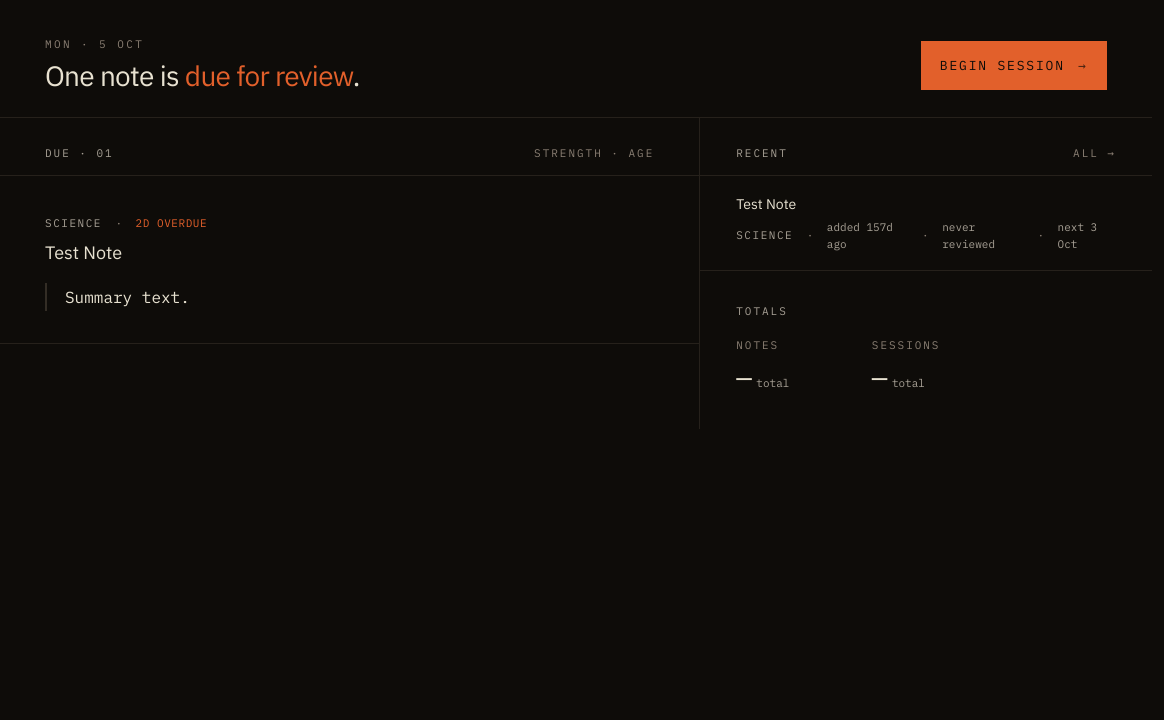
Test: Dashboard — offline toast › shows a toast and does not start a session when offline
Click the button "Begin session →" at {"x": 1014, "y": 65}, box 921,41 -> 1107,90
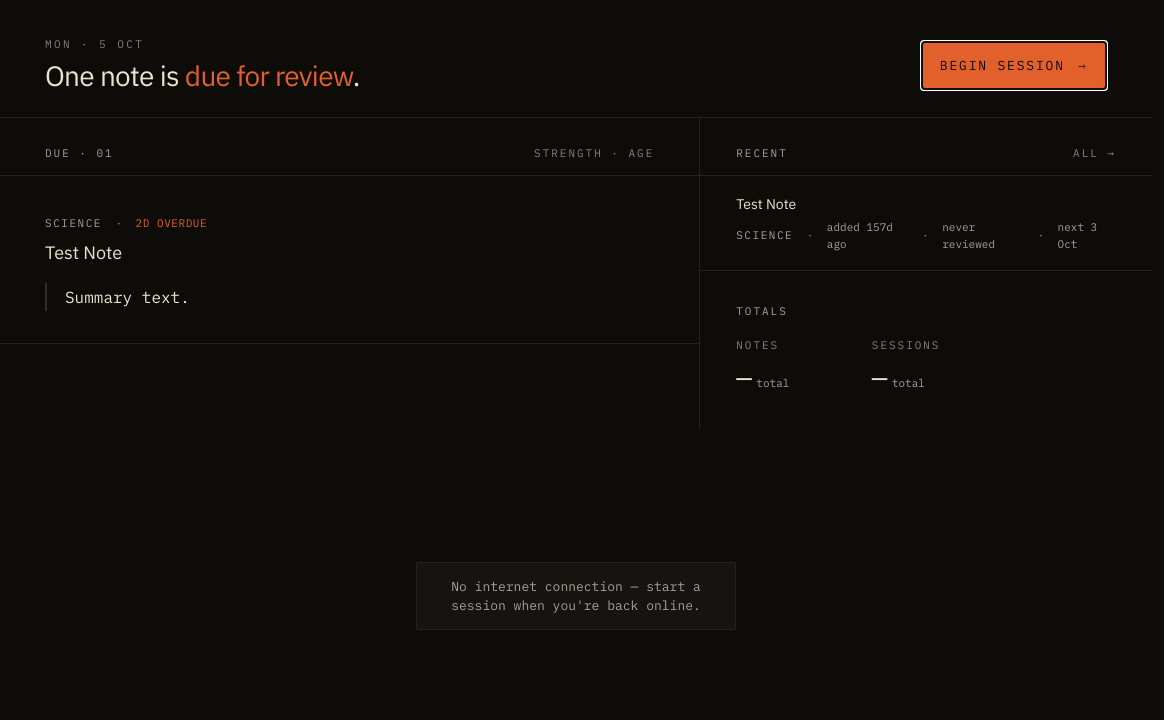
Expected: the message "No internet connection — start a session when you're back online." is shown, 416,562 -> 736,630
Expected: the message shows "internet connection", 451,578 -> 701,614
